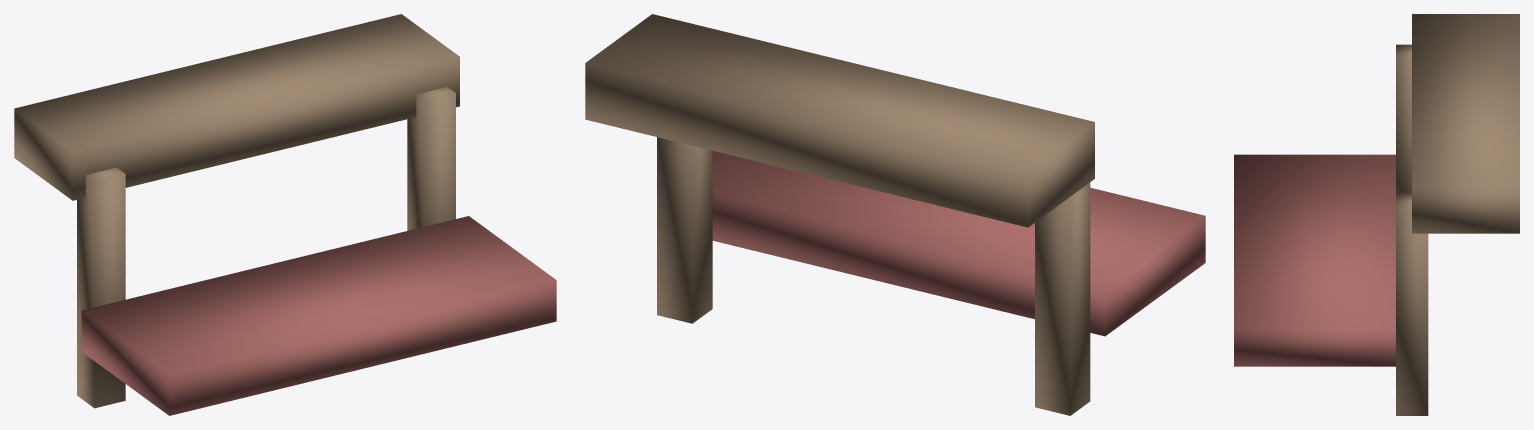
The model's file is prayer_kneeler__squat.glb.
3 renders of one model, left to right at view 1: azimuth 30°, elevation 25°; view 2: azimuth 150°, elevation 25°; view 3: azimuth 270°, elevation 25°, orthographic. The views are drawn at different scales.
Visible parts, largest first — view 1: world; view 2: world; view 3: world.
Boxes of the visible parts, x1,y1,x2,y2 form: world: (14,14,556,415); world: (585,14,1205,415); world: (1234,14,1519,415).
Bounding box in the file's own units: 0.825 × 0.5166 × 0.5724.
